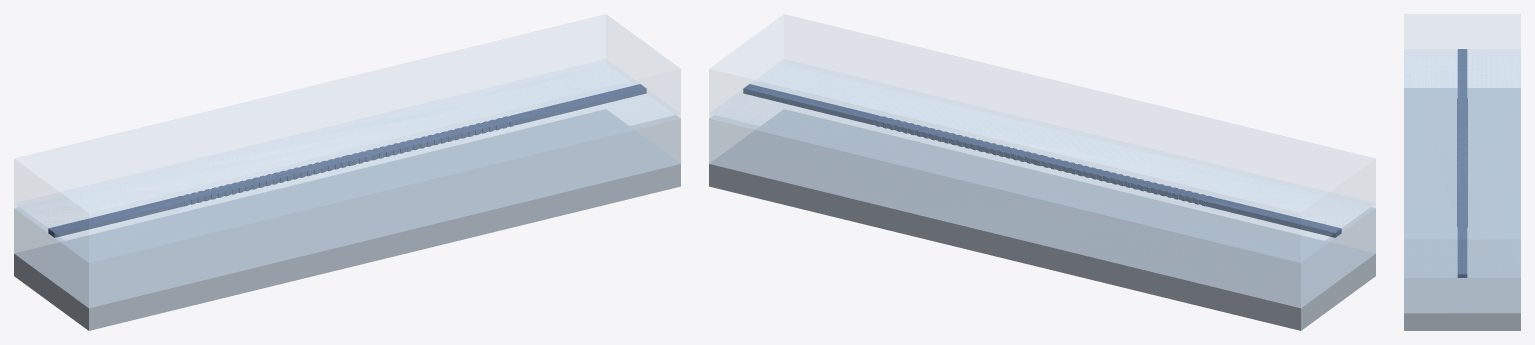
The model's file is stack-bragg.glb.
The picture shows the model from 3 angles, left to right: view 1: azimuth 30°, elevation 25°; view 2: azimuth 150°, elevation 25°; view 3: azimuth 270°, elevation 25°; orthographic projection. The views are drawn at different scales.
Parts seen in each view (by area): view 1: cladd, sisub, box, siwg; view 2: cladd, sisub, box, siwg; view 3: cladd, sisub, box, siwg.
Boxes of the visible parts, x1,y1,x2,y2 form: cladd: [14, 14, 680, 262]; sisub: [14, 109, 680, 330]; box: [14, 64, 680, 307]; siwg: [48, 84, 646, 237]; cladd: [709, 14, 1375, 262]; sisub: [709, 109, 1375, 330]; box: [709, 64, 1375, 307]; siwg: [743, 84, 1341, 237]; cladd: [1404, 14, 1520, 277]; sisub: [1404, 88, 1520, 330]; box: [1404, 53, 1520, 313]; siwg: [1457, 49, 1467, 277].
Bounding box in the file's own units: 27.37 × 5.2 × 6.
